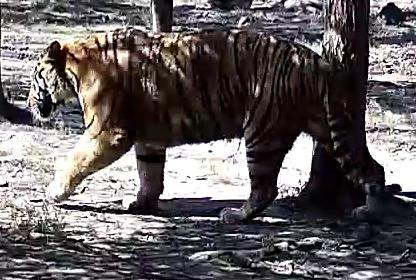tiger: (29, 0, 384, 221)
